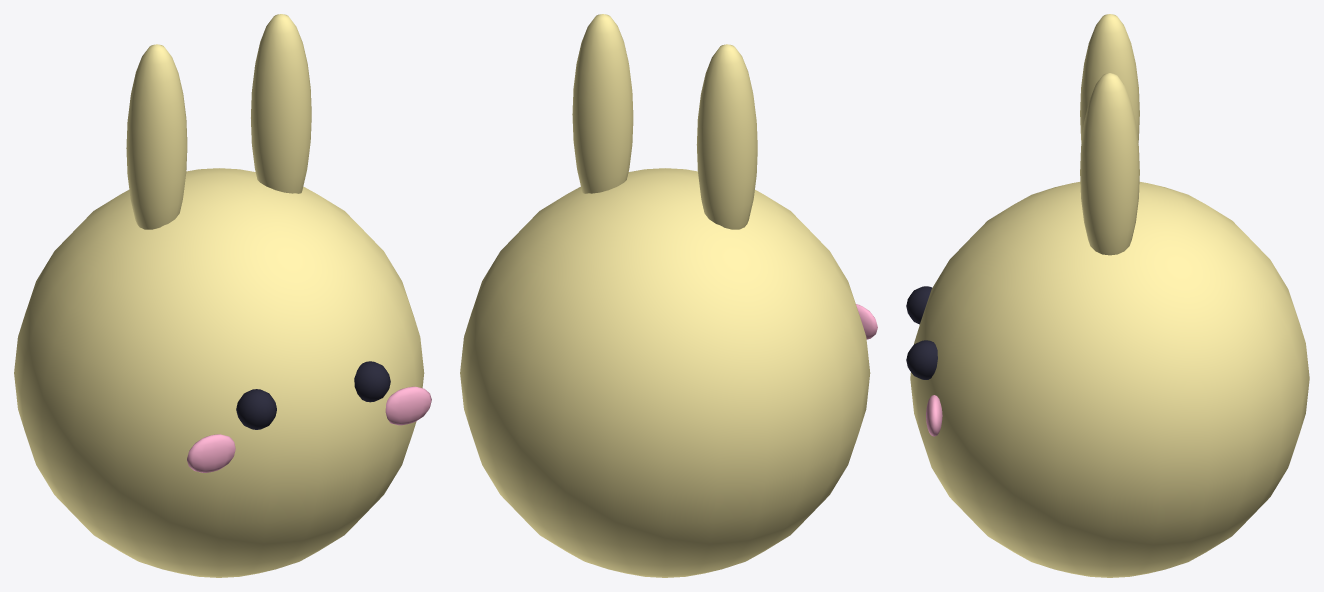
Rendered from bunny.glb.
3 renders of one model, left to right at view 1: azimuth 30°, elevation 25°; view 2: azimuth 150°, elevation 25°; view 3: azimuth 270°, elevation 25°, orthographic. The views are drawn at different scales.
Parts seen in each view (by area): view 1: Character_bunny; view 2: Character_bunny; view 3: Character_bunny.
Boxes of the visible parts, x1=… form: Character_bunny: x1=14, y1=14, x2=431, y2=577; Character_bunny: x1=460, y1=14, x2=877, y2=577; Character_bunny: x1=906, y1=14, x2=1309, y2=577.
Bounding box in the file's own units: 2 × 2.85 × 2.02.
